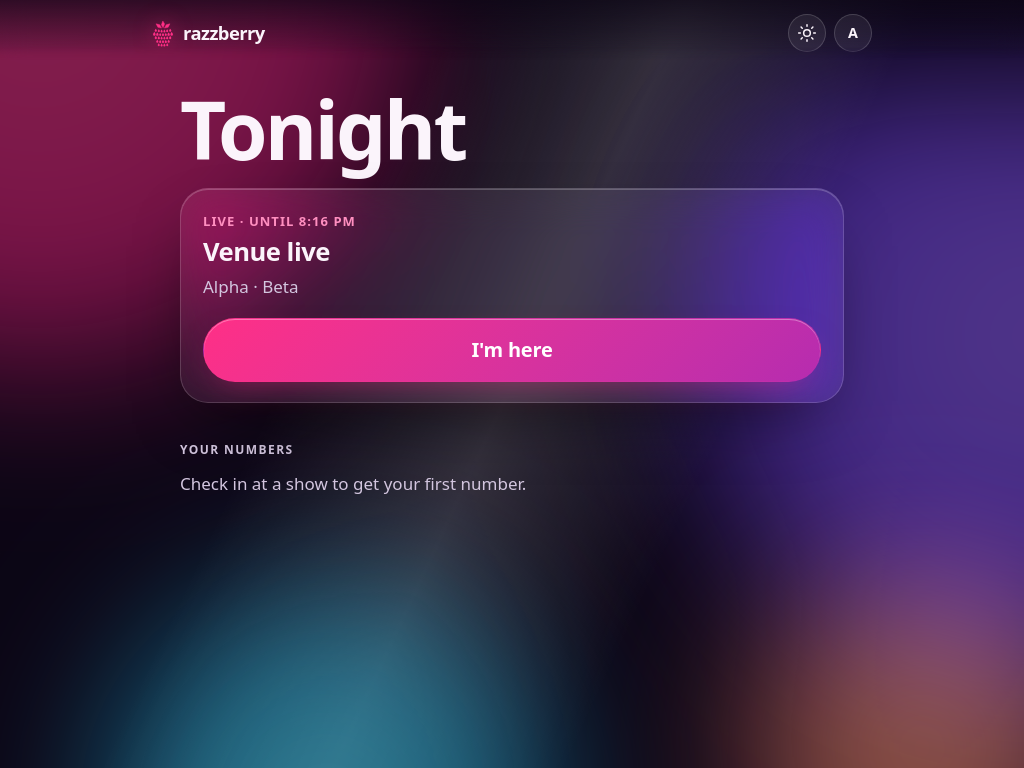
it: check-in › shows a friendly line when the location can't be found
The width and height of the screenshot is (1024, 768).
Click the button "I'm here".
click(512, 350)  # box [203,318,821,382]
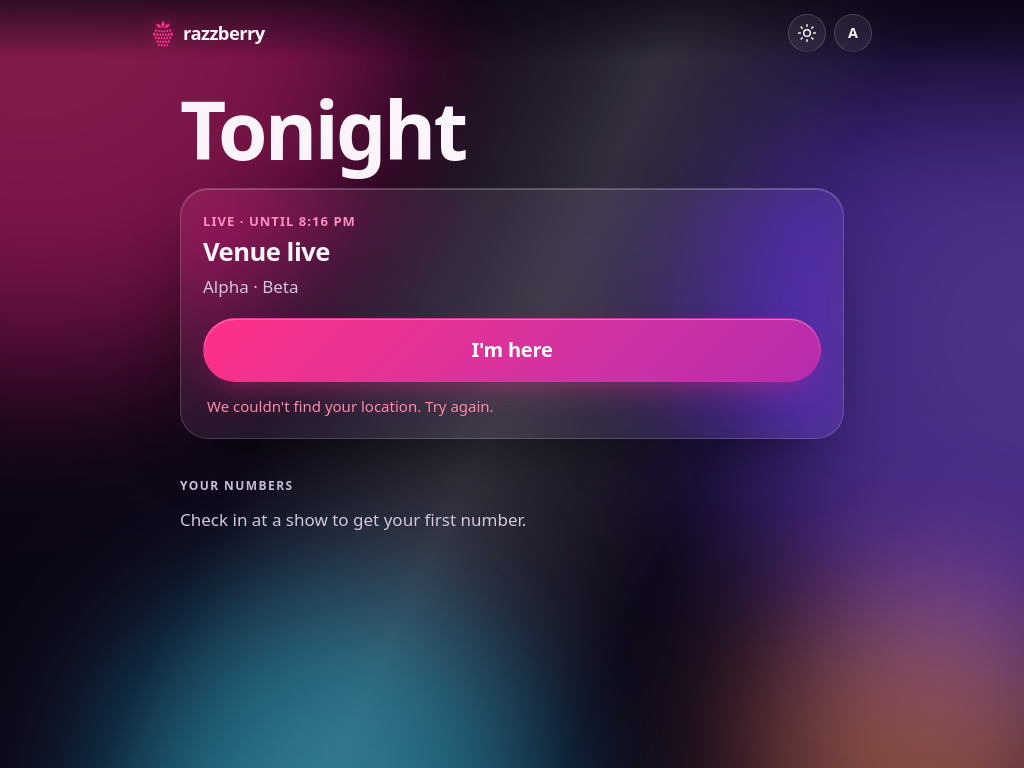
expect the message shows "couldn't find your location": met, box [207,396,494,416]
